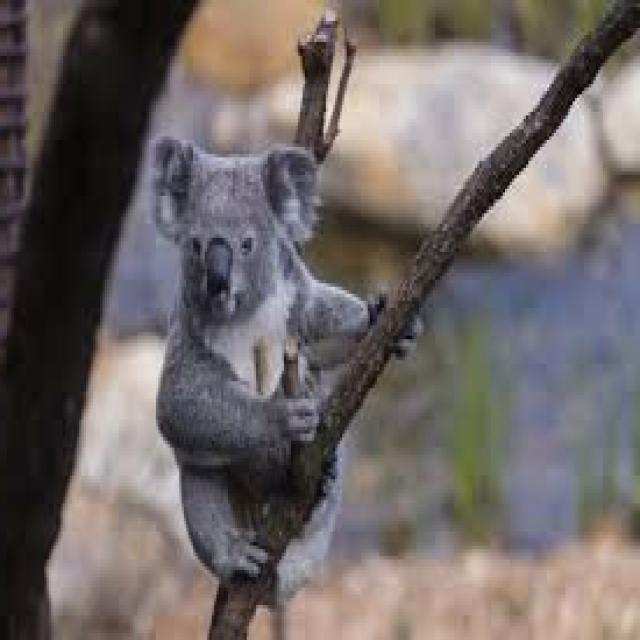koala: (156, 140, 379, 591)
